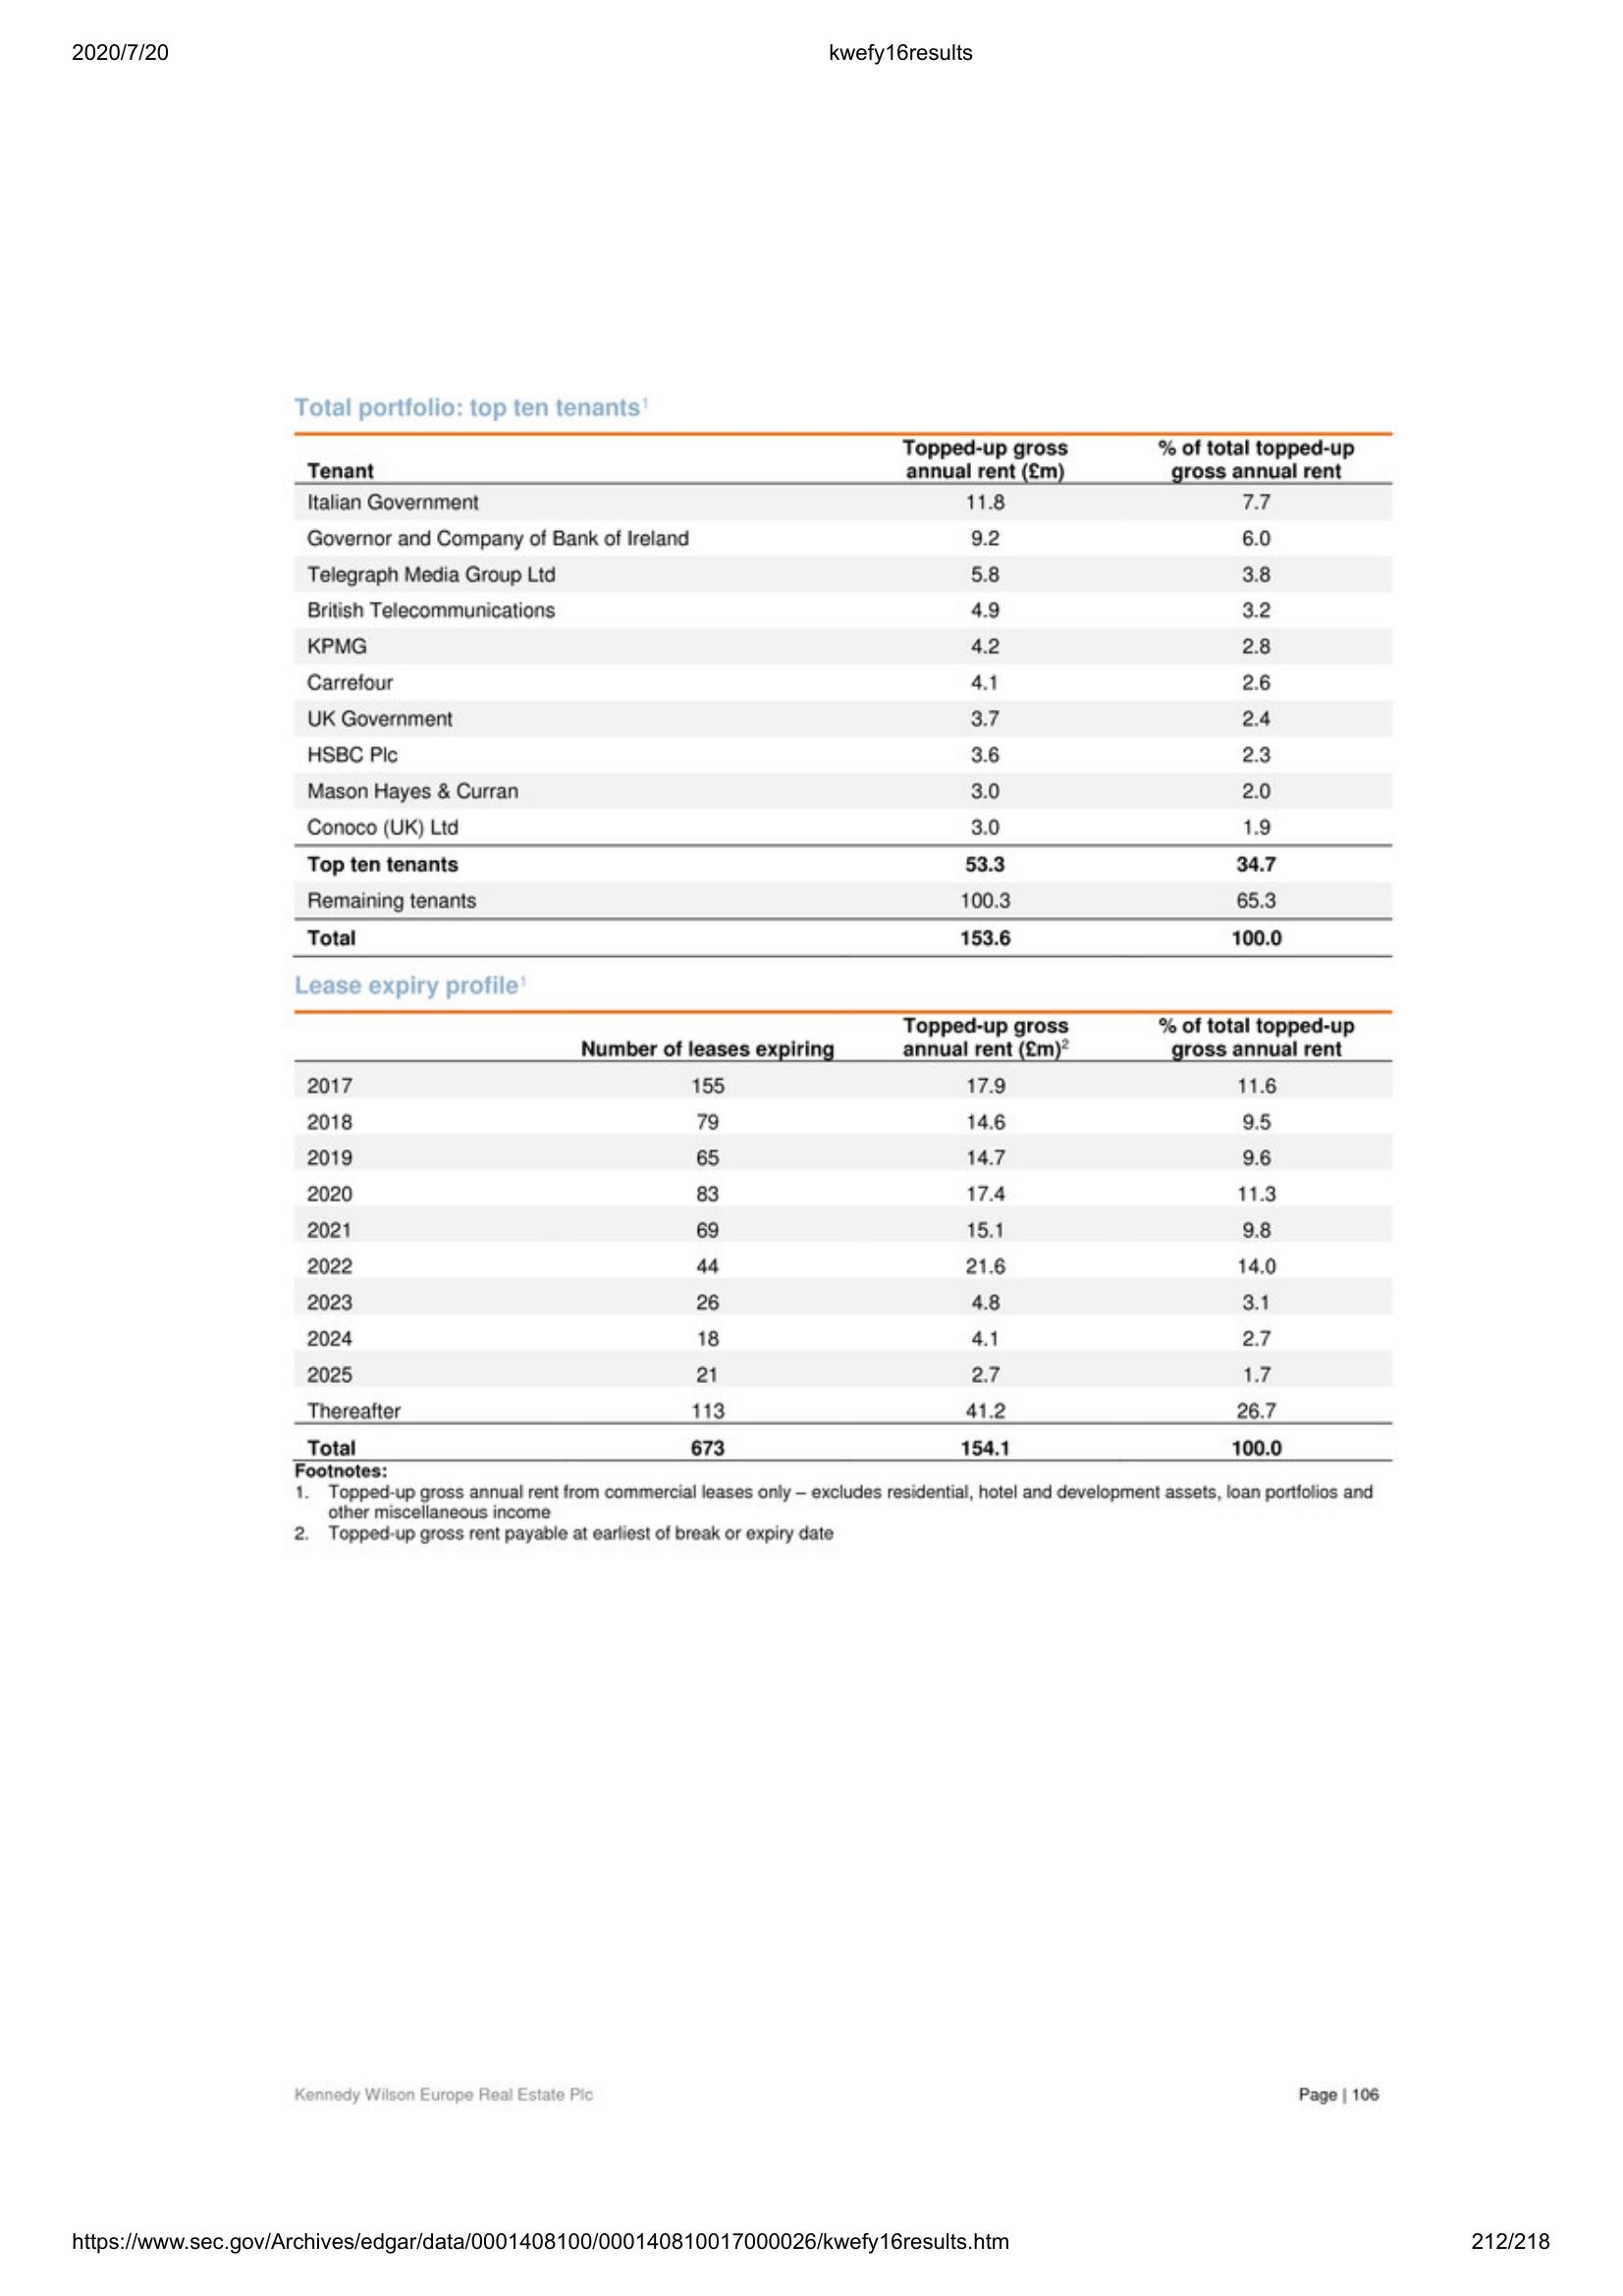table: (286, 425, 1400, 965), (285, 1002, 1403, 1474)
